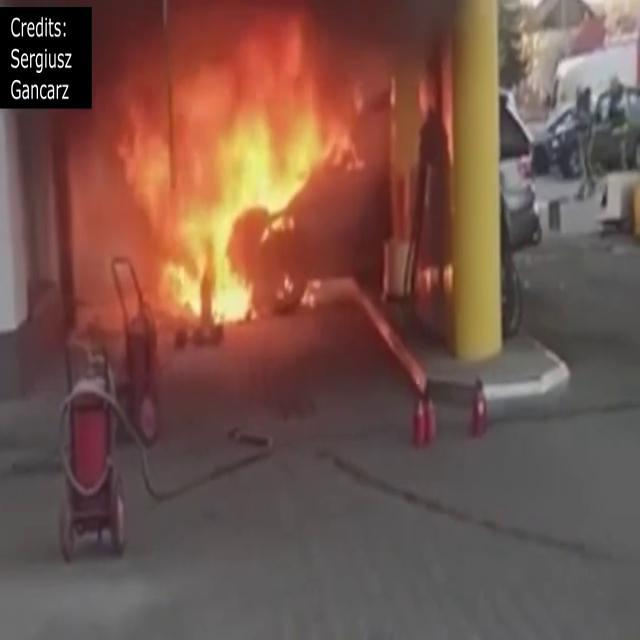Fire: (84, 6, 368, 344)
